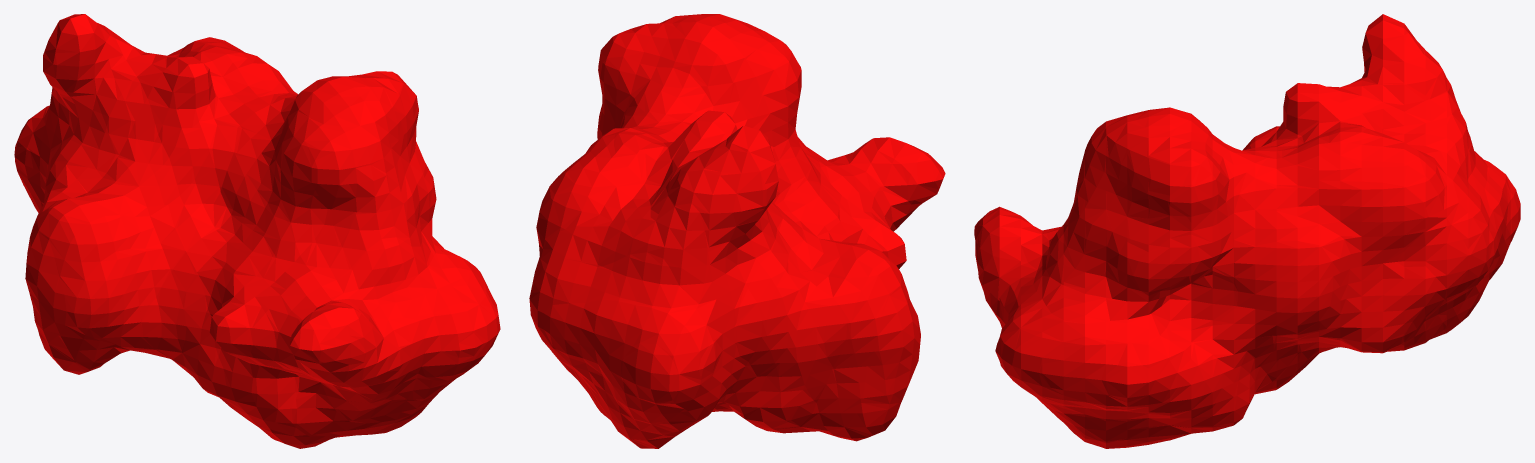
The model's file is hdhA_coarse.dae.
The picture shows the model from 3 angles, left to right: view 1: azimuth 30°, elevation 25°; view 2: azimuth 150°, elevation 25°; view 3: azimuth 270°, elevation 25°; orthographic projection. The views are drawn at different scales.
Parts seen in each view (by area): view 1: hdhA; view 2: hdhA; view 3: hdhA.
Boxes of the visible parts, x1=… form: hdhA: x1=14, y1=14, x2=500, y2=448; hdhA: x1=529, y1=14, x2=945, y2=448; hdhA: x1=974, y1=14, x2=1520, y2=448.
Bounding box in the file's own units: 64.53 × 59.48 × 83.78.
